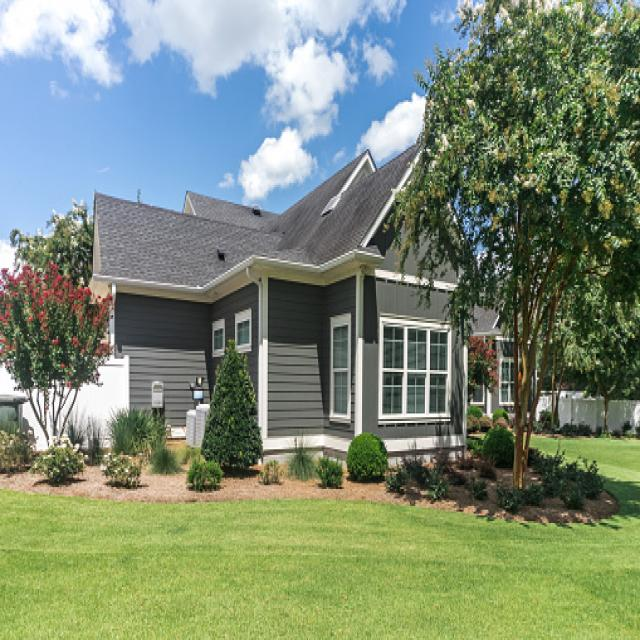Normal_building: (84, 137, 489, 490)
